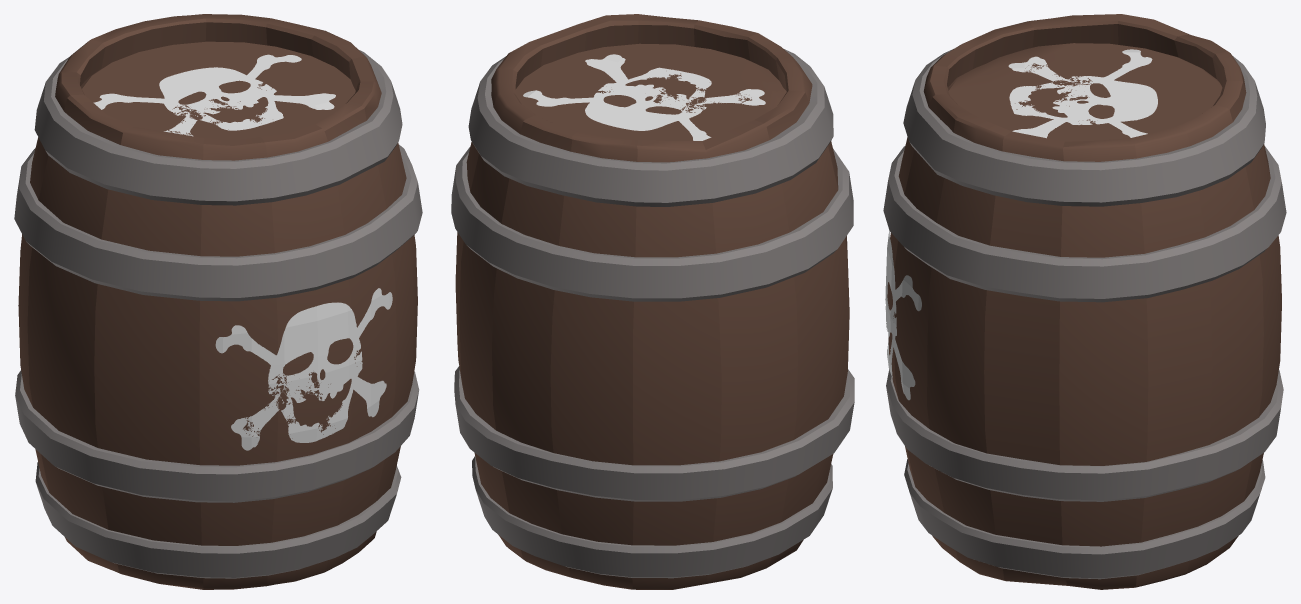
File: barrel_basic_model.fbx
3 renders of one model, left to right at view 1: azimuth 30°, elevation 25°; view 2: azimuth 150°, elevation 25°; view 3: azimuth 270°, elevation 25°, orthographic.
Parts seen in each view (by area): view 1: lp.044, lp.047, lp.046, lp.048, lp.043, lp.049, 32673554c1.007, 32673554c1.006; view 2: lp.044, lp.047, lp.046, lp.048, lp.043, lp.049, 32673554c1.006; view 3: lp.044, lp.047, lp.046, lp.043, lp.048, lp.049, 32673554c1.006, 32673554c1.007.
Boxes of the visible parts, <box> form: lp.044: <box>18,14,417,589</box>; lp.047: <box>14,144,422,301</box>; lp.046: <box>34,50,402,205</box>; lp.048: <box>15,370,419,502</box>; lp.043: <box>80,41,355,140</box>; lp.049: <box>35,462,401,578</box>; 32673554c1.007: <box>215,288,392,450</box>; 32673554c1.006: <box>93,54,335,136</box>; lp.044: <box>455,14,849,589</box>; lp.047: <box>451,147,853,301</box>; lp.046: <box>468,48,833,206</box>; lp.048: <box>454,366,854,501</box>; lp.043: <box>515,43,786,140</box>; lp.049: <box>472,456,832,578</box>; 32673554c1.006: <box>523,54,765,140</box>; lp.044: <box>887,14,1281,589</box>; lp.047: <box>883,146,1286,302</box>; lp.046: <box>903,49,1265,206</box>; lp.043: <box>948,43,1222,141</box>; lp.048: <box>886,369,1283,501</box>; lp.049: <box>904,459,1265,579</box>; 32673554c1.006: <box>1008,49,1157,138</box>; 32673554c1.007: <box>885,231,921,400</box>.
Size of the model in its own units: 121 by 146 by 119.
